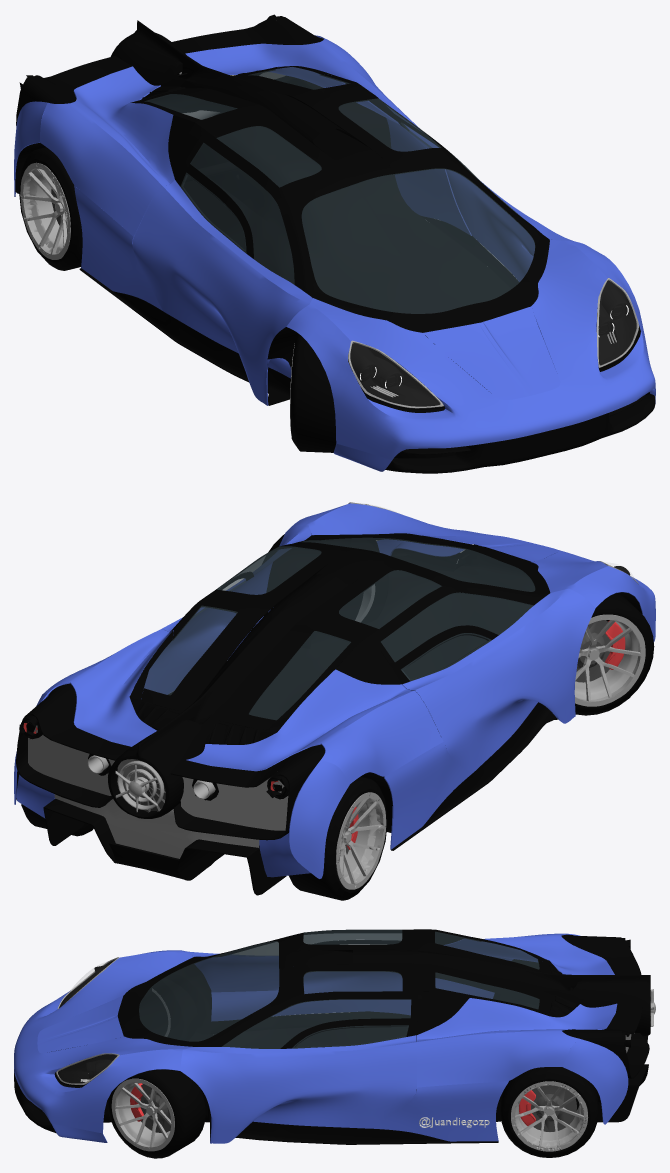
Rendered from gma-t50-low.glb.
3 views of the same model, one above another, from view 1: azimuth 30°, elevation 25°; view 2: azimuth 150°, elevation 25°; view 3: azimuth 270°, elevation 25° (orthographic). The views are drawn at different scales.
Parts seen in each view (by area): view 1: body, wheel_rear_right, wheel_front_right; view 2: body, wheel_front_right, wheel_rear_right, wheel_front_left; view 3: body, wheel_rear_left, wheel_front_left, wheel_front_right.
Boxes of the visible parts, <box> form: body: <box>14,14,655,473</box>; wheel_rear_right: <box>19,147,82,270</box>; wheel_front_right: <box>290,334,336,452</box>; body: <box>14,502,655,895</box>; wheel_front_right: <box>574,593,654,715</box>; wheel_rear_right: <box>289,776,387,900</box>; wheel_front_left: <box>268,534,388,623</box>; body: <box>14,929,655,1144</box>; wheel_rear_left: <box>500,1067,598,1157</box>; wheel_front_left: <box>107,1069,205,1158</box>; wheel_front_right: <box>152,978,198,1040</box>.
Size of the model in its own units: 2.19 by 1.12 by 4.35.
